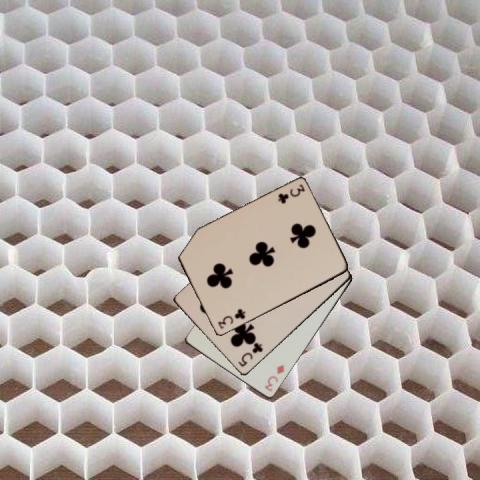3c: (214, 306, 246, 331), (275, 181, 306, 205)
3d: (261, 362, 286, 393)
5c: (235, 340, 264, 369)
